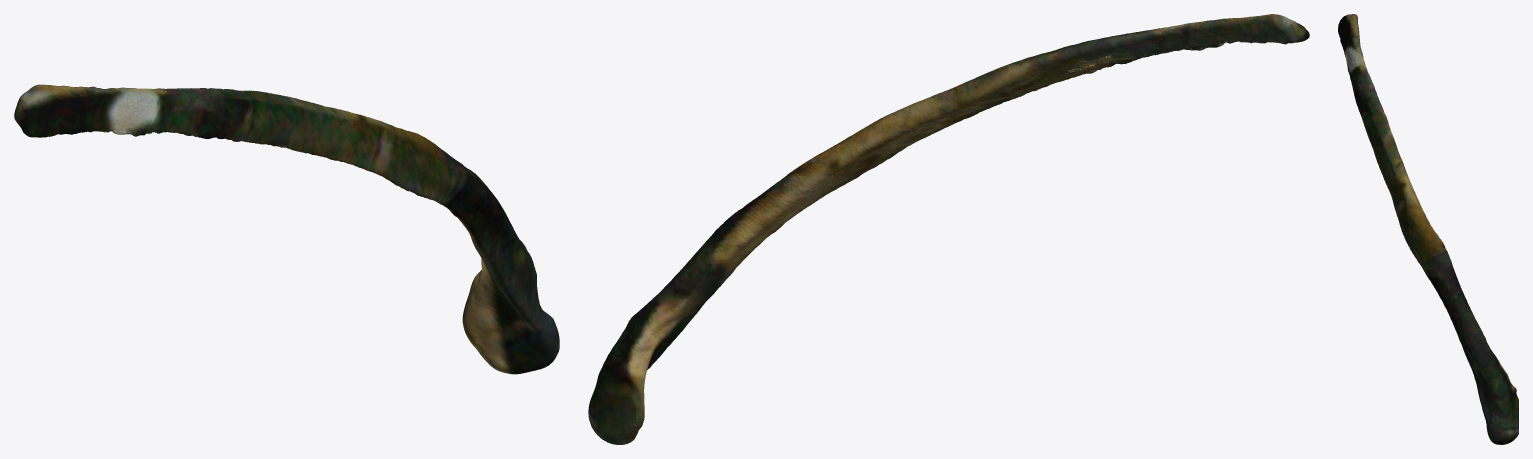
File: 18_ribs.glb
3 renders of one model, left to right at view 1: azimuth 30°, elevation 25°; view 2: azimuth 150°, elevation 25°; view 3: azimuth 270°, elevation 25°, orthographic. The views are drawn at different scales.
Parts seen in each view (by area): view 1: Node; view 2: Node; view 3: Node.
Part boxes in pixels (x1=…): Node: x1=14, y1=84, x2=559, y2=374; Node: x1=588, y1=14, x2=1309, y2=444; Node: x1=1338, y1=14, x2=1518, y2=444.
Size of the model in its own units: 47.87 by 36.37 by 21.74.
Materials: 1 (1 with a texture image).
